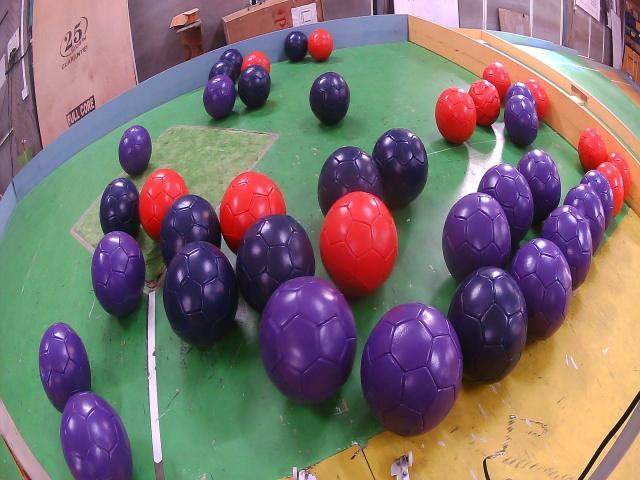jambhalya: (361, 303, 462, 437), (260, 277, 356, 403), (509, 238, 572, 341), (60, 392, 132, 480), (442, 192, 511, 282), (39, 322, 91, 412), (478, 163, 534, 245), (91, 232, 145, 317), (541, 205, 592, 289), (516, 148, 561, 222), (564, 183, 605, 254), (580, 170, 614, 229), (504, 95, 539, 147), (119, 125, 151, 175), (202, 75, 236, 118), (505, 82, 536, 108)
kaalyya: (448, 267, 528, 382), (162, 242, 239, 345), (236, 213, 315, 312), (159, 193, 221, 267), (372, 128, 428, 208), (318, 147, 382, 215), (99, 177, 140, 238), (310, 72, 350, 125), (238, 65, 271, 108), (284, 32, 308, 62), (209, 60, 236, 85), (220, 48, 244, 76)
